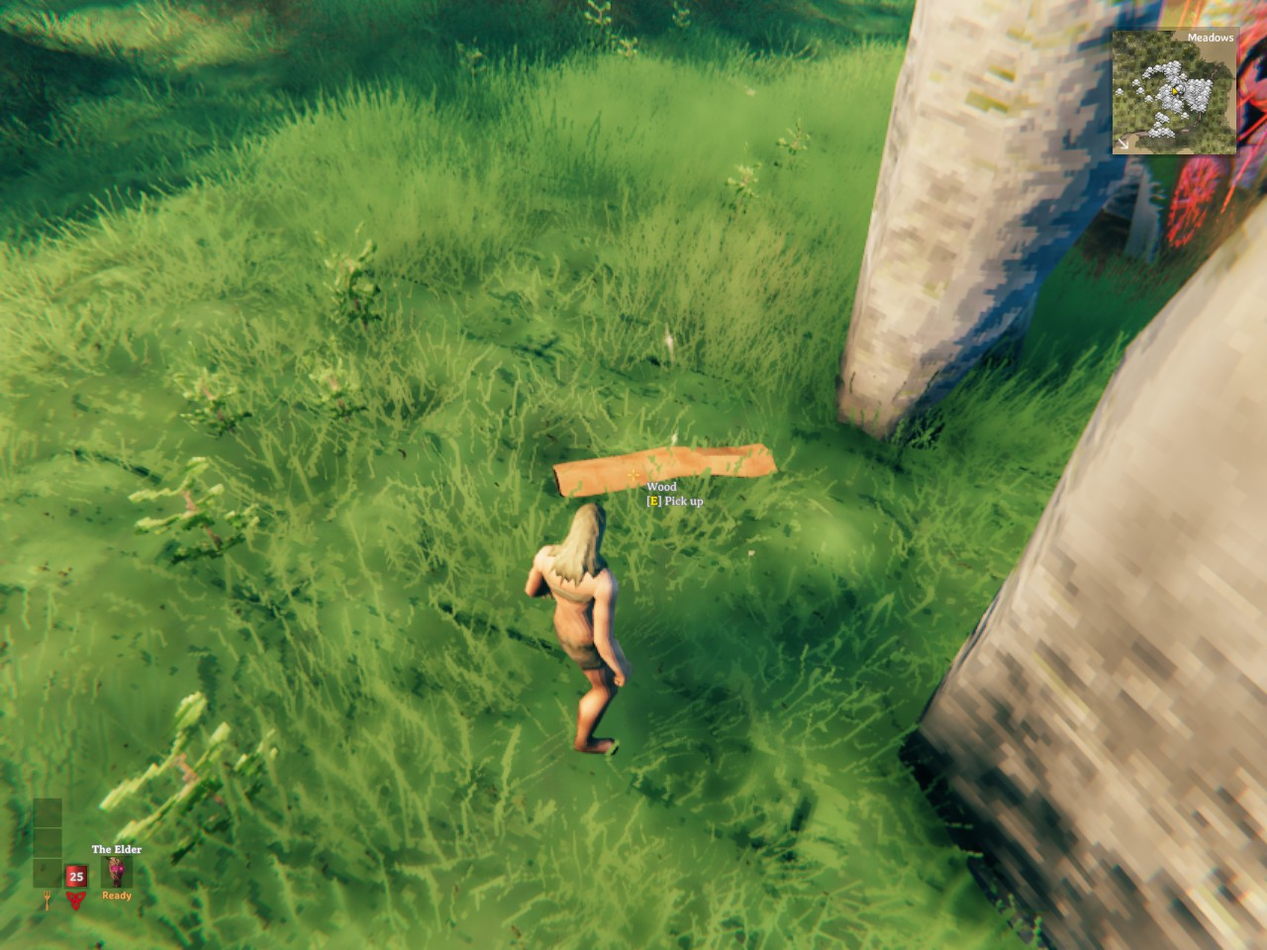Health Bar: (65, 865, 87, 888)
Wood: (554, 444, 775, 497)
